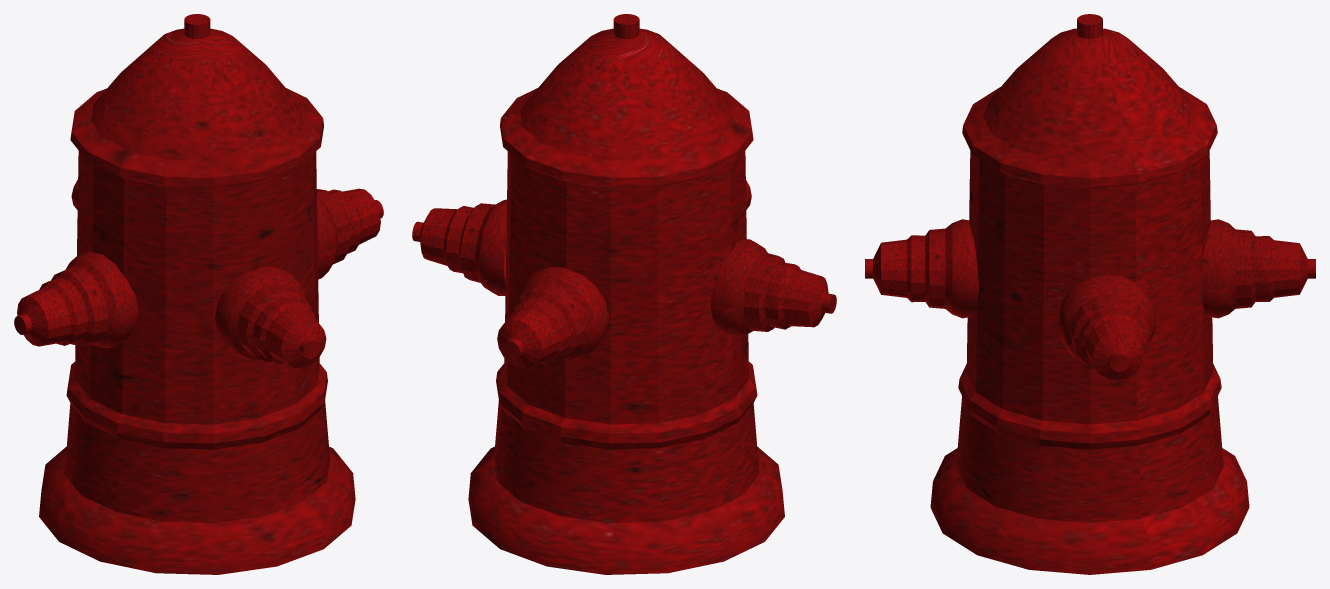
The model's file is hydrant.FBX.
3 views of the same model, side by side, from view 1: azimuth 30°, elevation 25°; view 2: azimuth 150°, elevation 25°; view 3: azimuth 270°, elevation 25° (orthographic).
Visible parts, largest first — view 1: Cylinder001; view 2: Cylinder001; view 3: Cylinder001.
Boxes of the visible parts, x1=… form: Cylinder001: x1=14, y1=14, x2=383, y2=574; Cylinder001: x1=412, y1=14, x2=836, y2=574; Cylinder001: x1=865, y1=14, x2=1315, y2=574.
Size of the model in its own units: 12.58 by 15.07 by 12.62.
